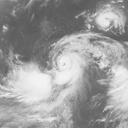cyclone: (12, 66, 54, 104), (56, 51, 85, 81), (97, 9, 122, 30)
